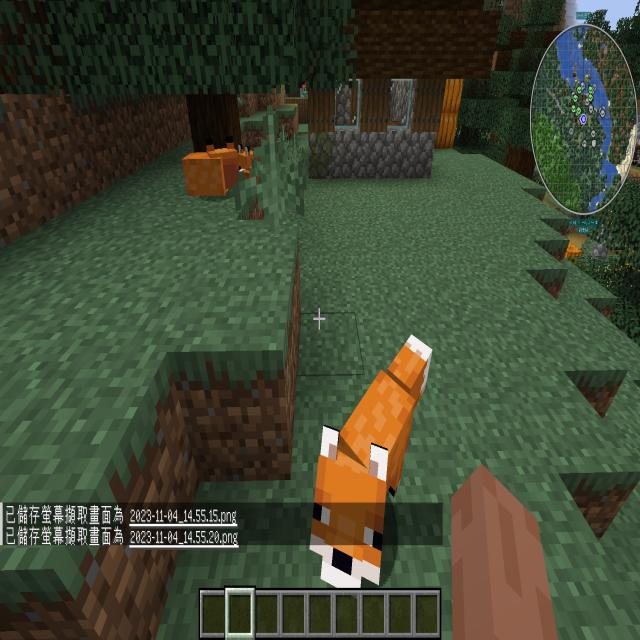Fox: (285, 307, 469, 613), (179, 136, 254, 210), (234, 138, 279, 189)
